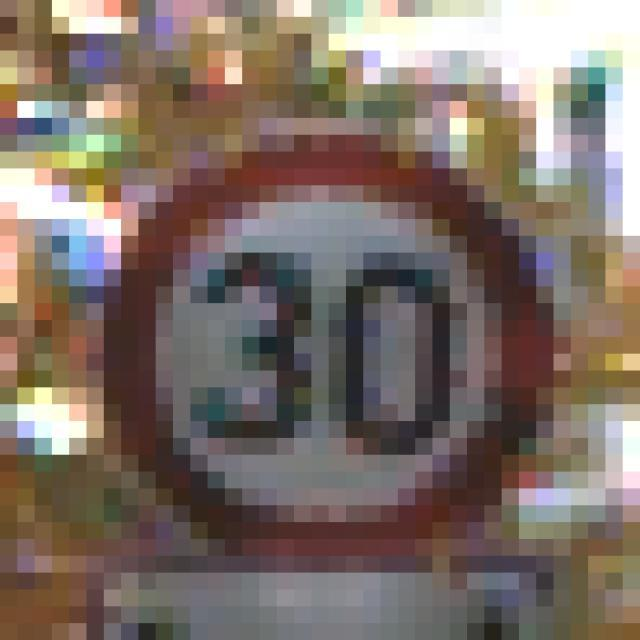Speed Limit -30-: (78, 92, 528, 548)
